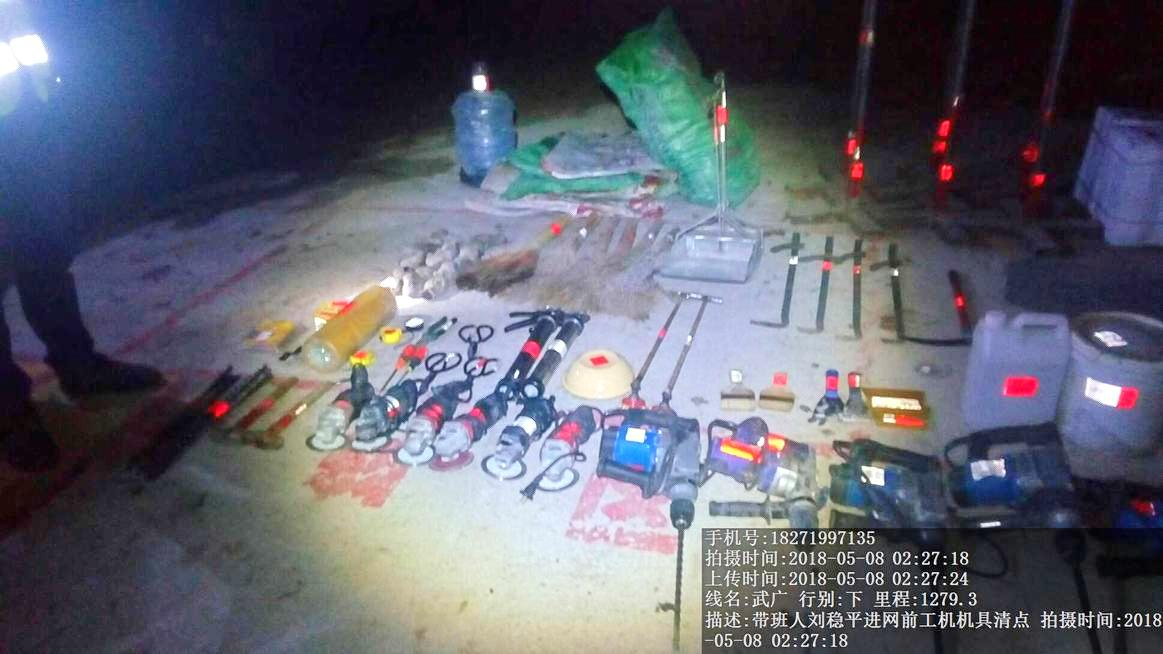DMJ: (471, 404, 550, 480), (535, 412, 600, 489), (307, 375, 363, 454), (354, 380, 412, 448), (404, 385, 455, 457)
DZ: (697, 406, 822, 528), (598, 402, 703, 533), (826, 433, 946, 530), (955, 445, 1070, 536)
SB: (465, 214, 570, 294)
